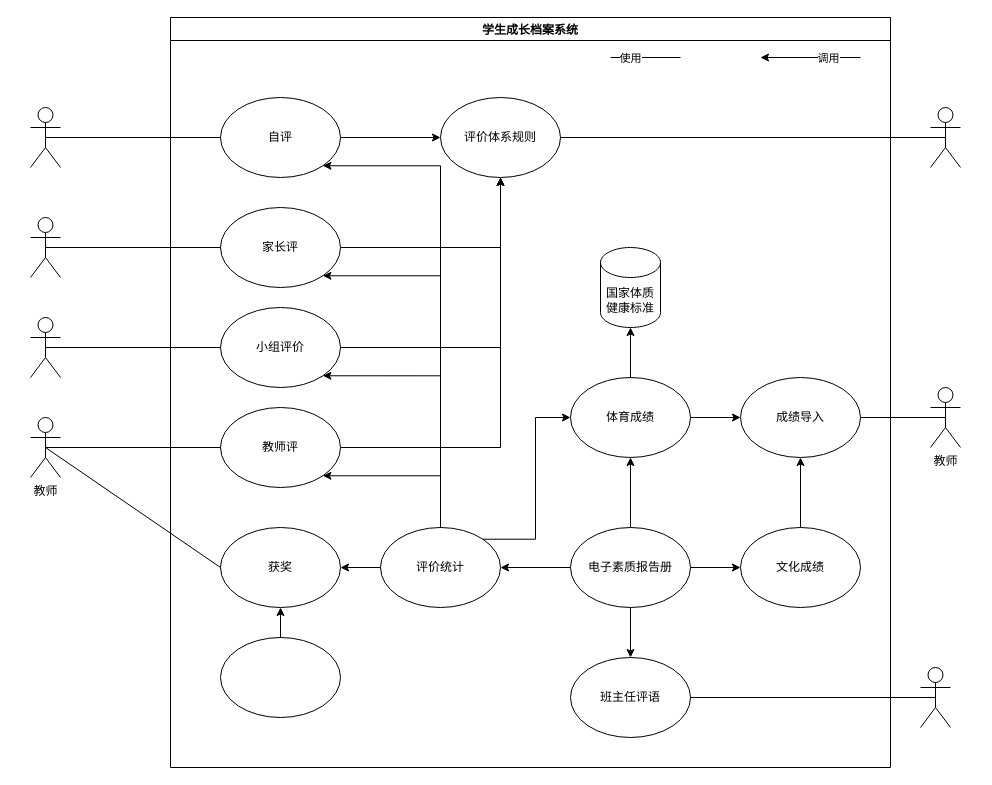
Some shapes in this 992 by 785 pixel diagram are drawn without their labels. Each missing label, with the centre of its shape:
"学生A" belongs at (45,137).
"学生A家长" belongs at (45,247).
"学生B" belongs at (45,347).
"班主任" belongs at (935,697).
"获奖加星规则" belongs at (280,677).
"规则管理员" belongs at (945,137).
